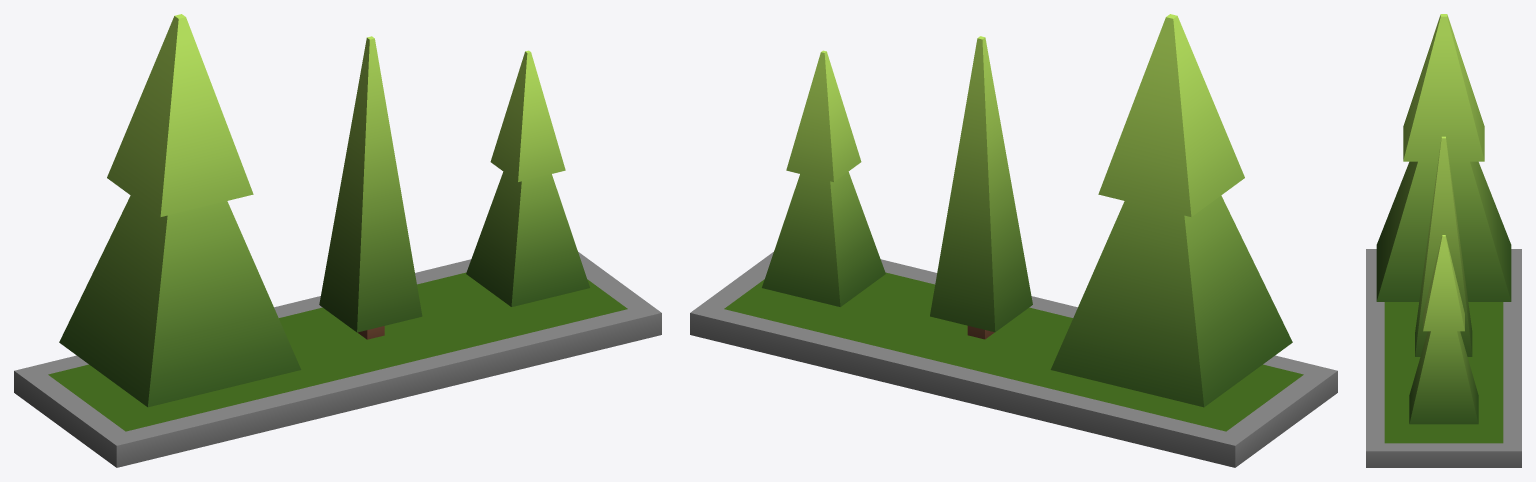
Rendered from fir flowers.fbx.
The picture shows the model from 3 angles, left to right: view 1: azimuth 30°, elevation 25°; view 2: azimuth 150°, elevation 25°; view 3: azimuth 270°, elevation 25°; orthographic projection. The views are drawn at different scales.
Visible parts, largest first — view 1: fir_flowers; view 2: fir_flowers; view 3: fir_flowers.
Part boxes in pixels (<box>): fir_flowers: <box>14,14,661,467</box>; fir_flowers: <box>690,14,1337,467</box>; fir_flowers: <box>1366,14,1521,467</box>.
Bounding box in the file's own units: 518 × 350 × 169.
1 material, 1 textured.
